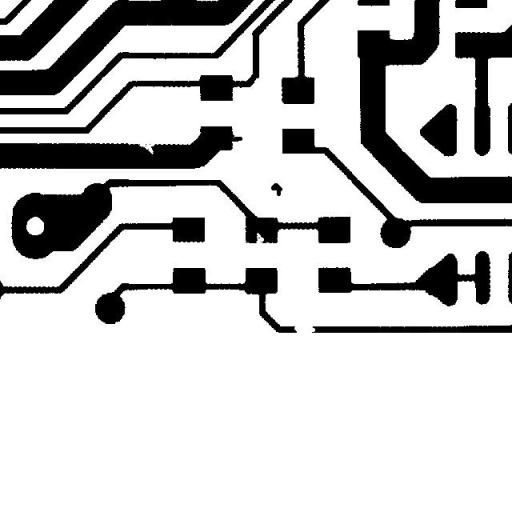copper: (263, 175, 290, 203)
mousebite: (131, 134, 162, 162), (248, 225, 271, 252)
open: (286, 316, 322, 342)
spur: (220, 126, 250, 149)
